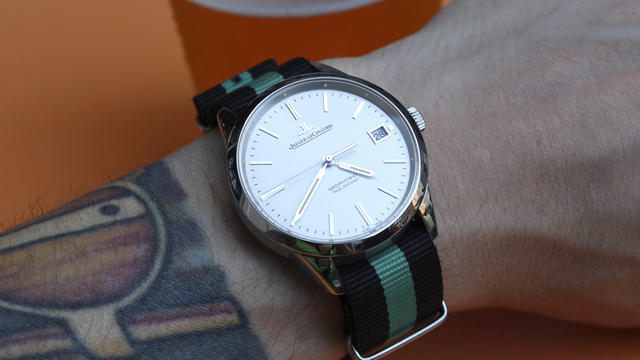clock: (246, 90, 412, 240)
